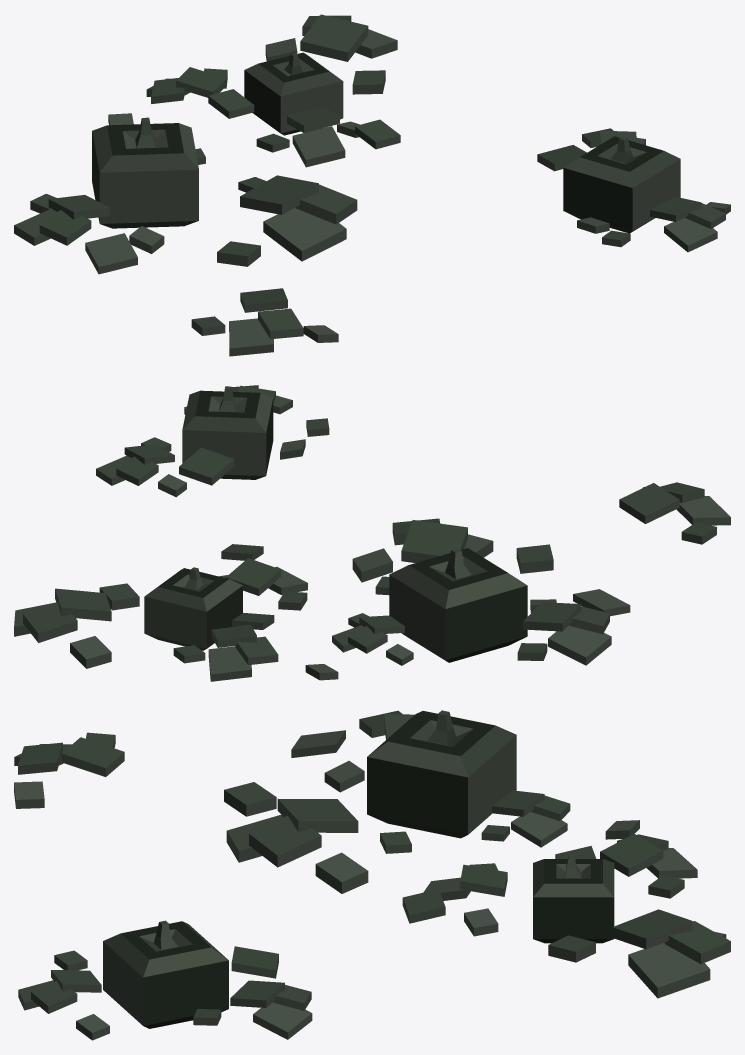
The model's file is SF_Prop_Crops_Pumpkin_01.glb.
3 renders of one model, top to bottom at view 1: azimuth 30°, elevation 25°; view 2: azimuth 150°, elevation 25°; view 3: azimuth 270°, elevation 25°, orthographic. The views are drawn at different scales.
Visible parts, largest first — view 1: SF_Prop_Crops_Pumpkin_01; view 2: SF_Prop_Crops_Pumpkin_01; view 3: SF_Prop_Crops_Pumpkin_01.
Boxes of the visible parts, x1,y1,x2,y2 form: SF_Prop_Crops_Pumpkin_01: [14, 14, 730, 356]; SF_Prop_Crops_Pumpkin_01: [14, 385, 730, 681]; SF_Prop_Crops_Pumpkin_01: [14, 710, 730, 1040].
Size of the model in its own units: 0.0951 by 0.0151 by 0.0931.
1 material, 1 textured.
